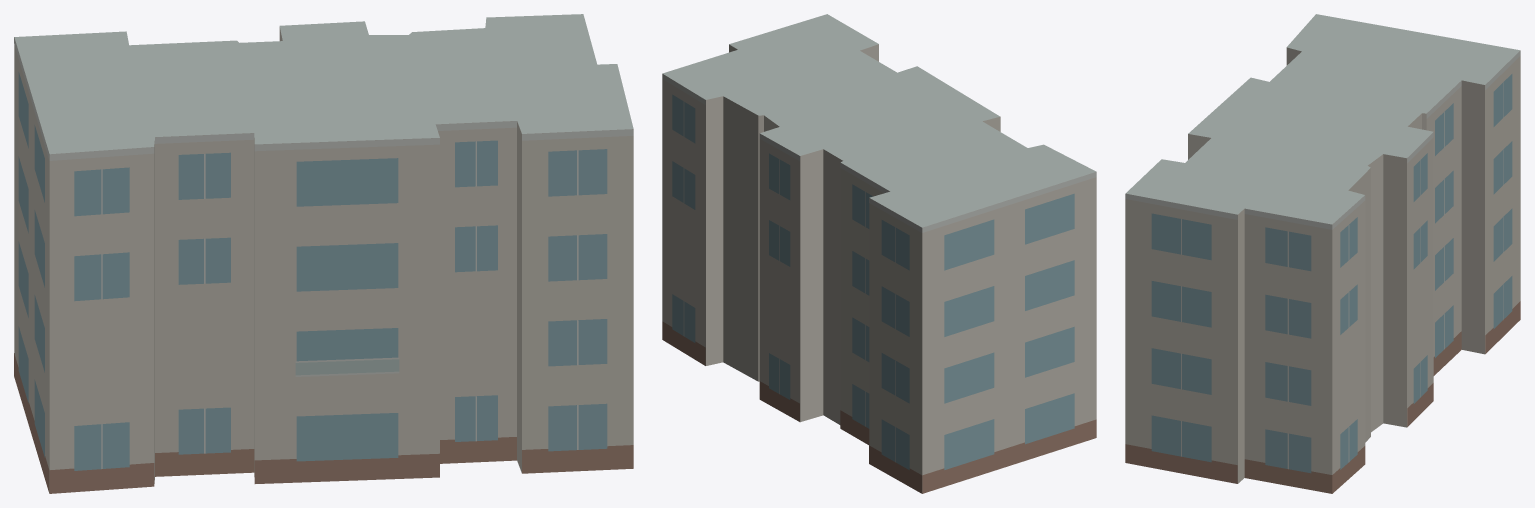
File: survey-upis-32458010.glb
The picture shows the model from 3 angles, left to right: view 1: azimuth 30°, elevation 25°; view 2: azimuth 150°, elevation 25°; view 3: azimuth 270°, elevation 25°; orthographic projection. The views are drawn at different scales.
Parts seen in each view (by area): view 1: survey-upis-32458010.tmp; view 2: survey-upis-32458010.tmp; view 3: survey-upis-32458010.tmp.
Part boxes in pixels (left/top/right/bottom): survey-upis-32458010.tmp: left=14, top=14, right=633, bottom=493; survey-upis-32458010.tmp: left=662, top=14, right=1096, bottom=493; survey-upis-32458010.tmp: left=1125, top=14, right=1520, bottom=493.
Size of the model in its own units: 20.46 by 12.2 by 16.23.
